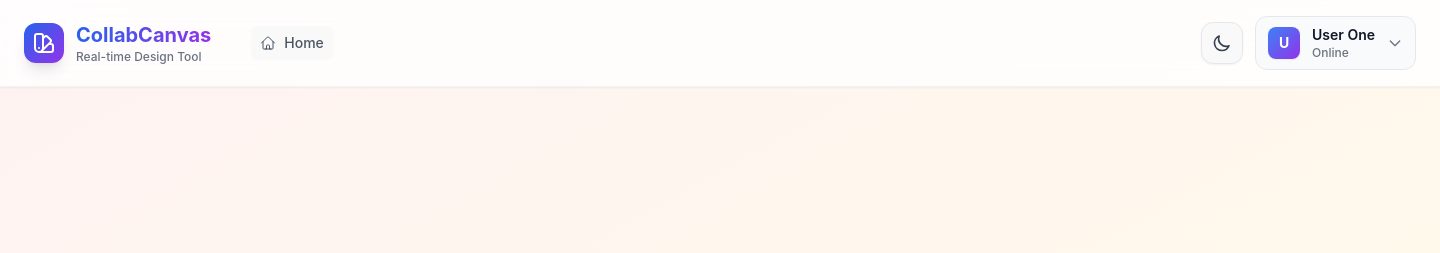
Scenario: Navbar › User Menu › should handle user menu navigation
Click the text "User One".
click(1344, 35)  # box [1312,25,1375,45]
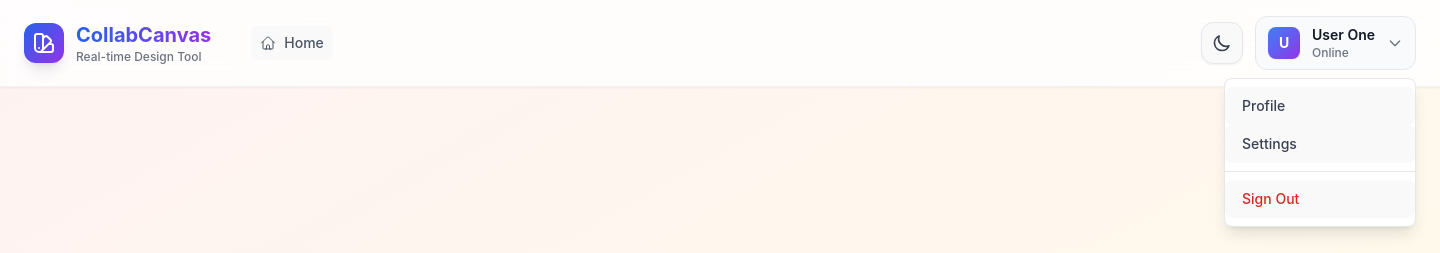
Click the button "Profile".
click(1320, 106)  # box [1225,87,1415,125]
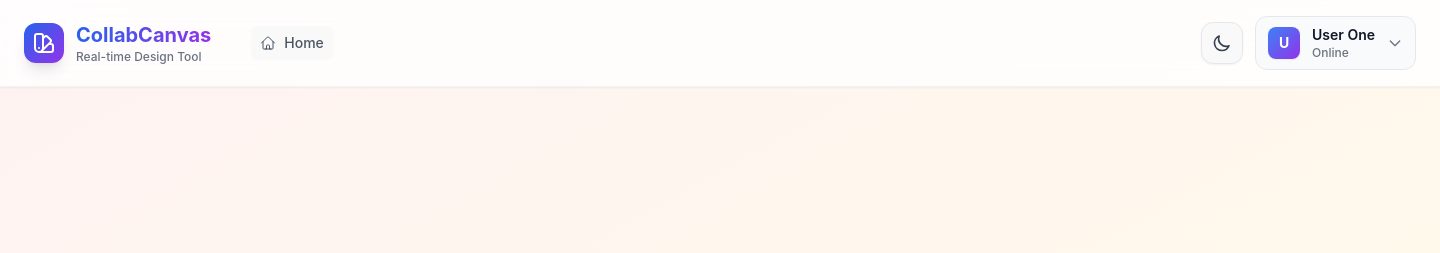
Result: the button "Profile" is gone
